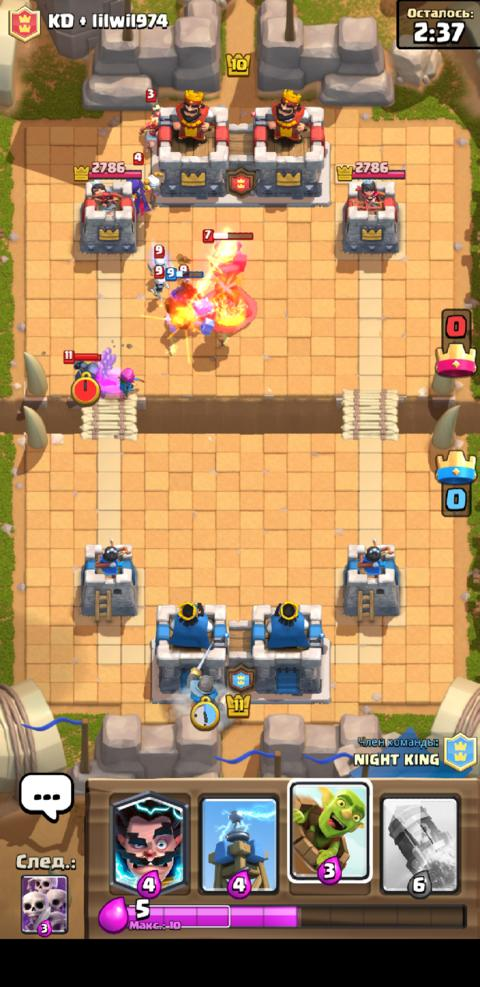ally_archer: (115, 365, 146, 400)
ally_hog_rider: (163, 266, 214, 337)
ally_knight: (184, 637, 220, 716)
enemy_inferno_tower: (194, 227, 258, 335)
enemy_mini_pekka: (60, 348, 108, 397)
enemy_princess: (135, 87, 161, 138)
enemy_skeleton: (148, 265, 170, 303), (145, 242, 164, 273)
enemy_witch: (123, 150, 165, 216)
